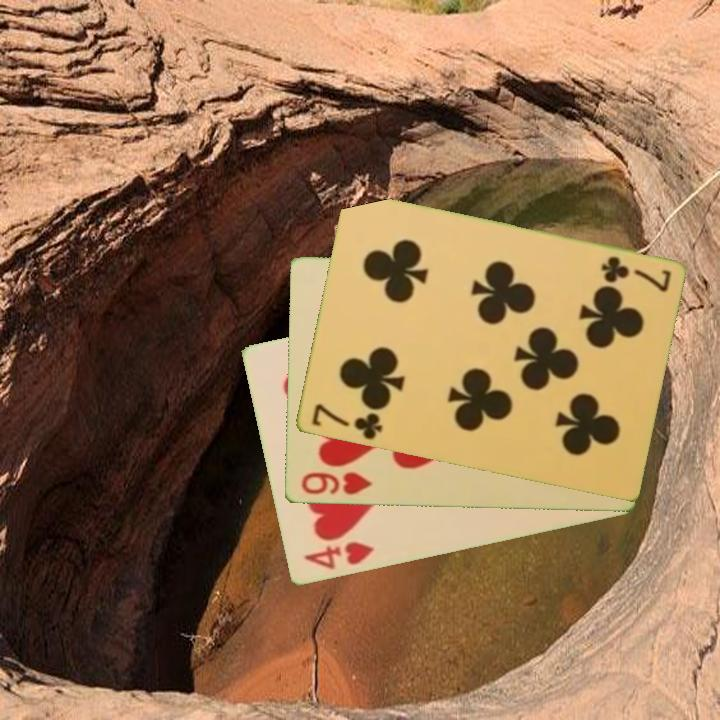4h: (300, 538, 377, 574)
7c: (308, 400, 385, 443), (597, 253, 674, 295)
9h: (297, 469, 374, 498)
